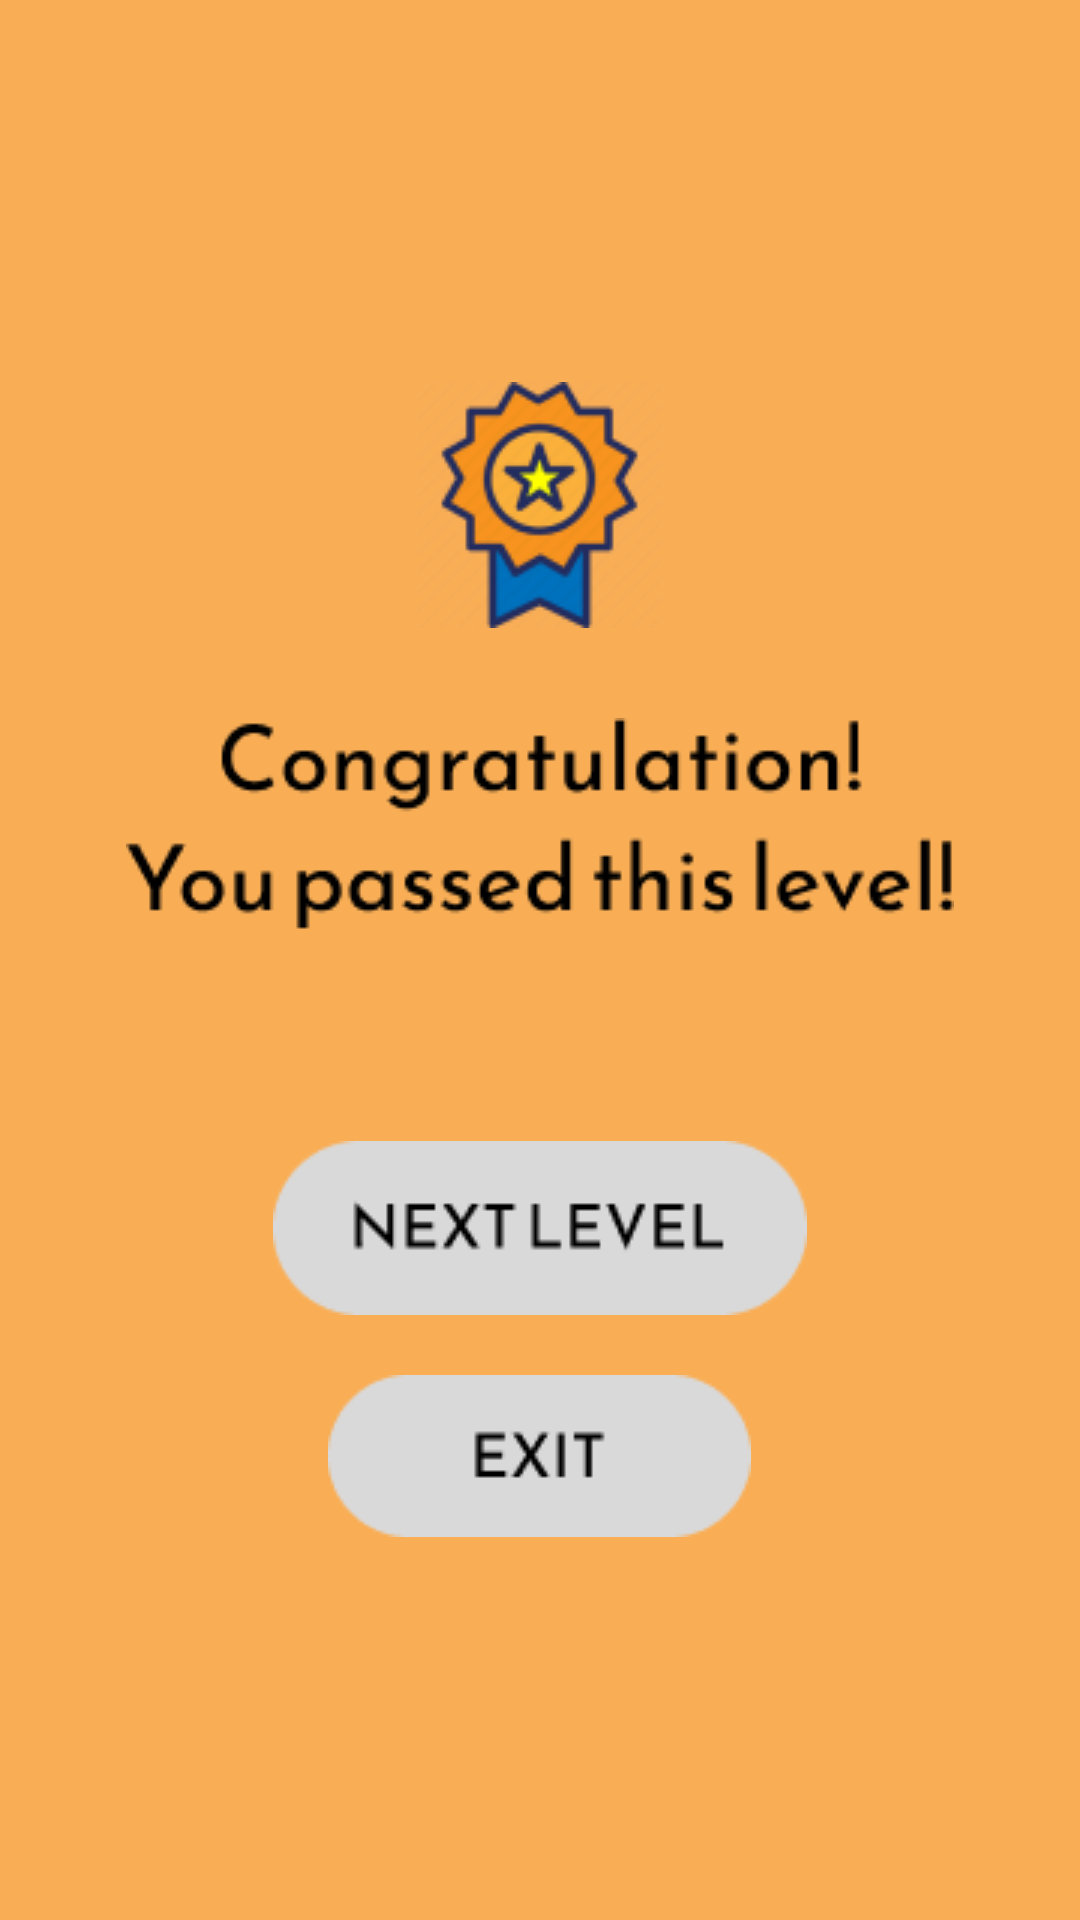

Screen size 1080x1920. Icon name, then its center in pixels as (x,y):
level passed badge: (539,505)
